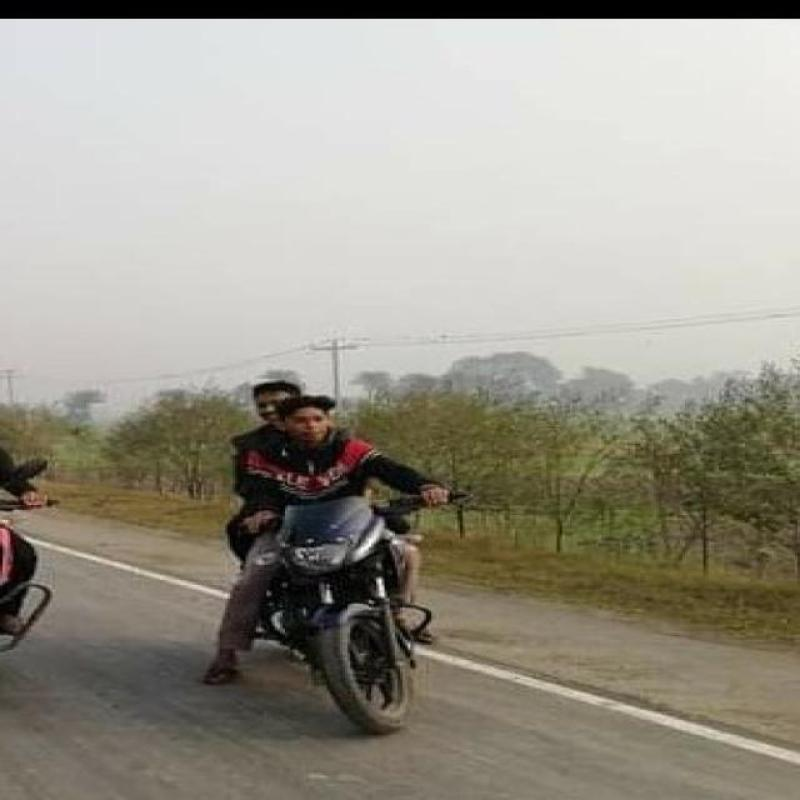nohelmet: (279, 395, 357, 444)
